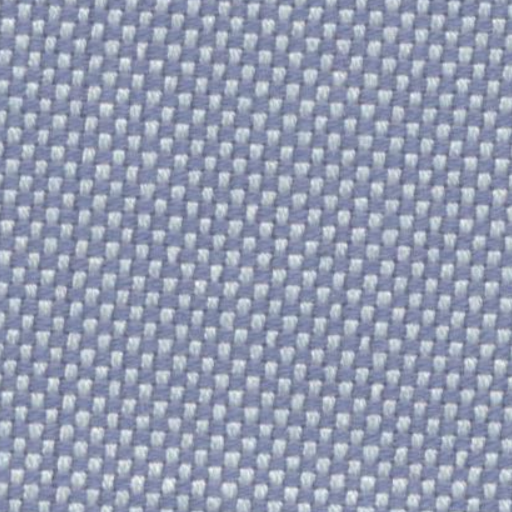TuoSha: (38, 18, 100, 504)
